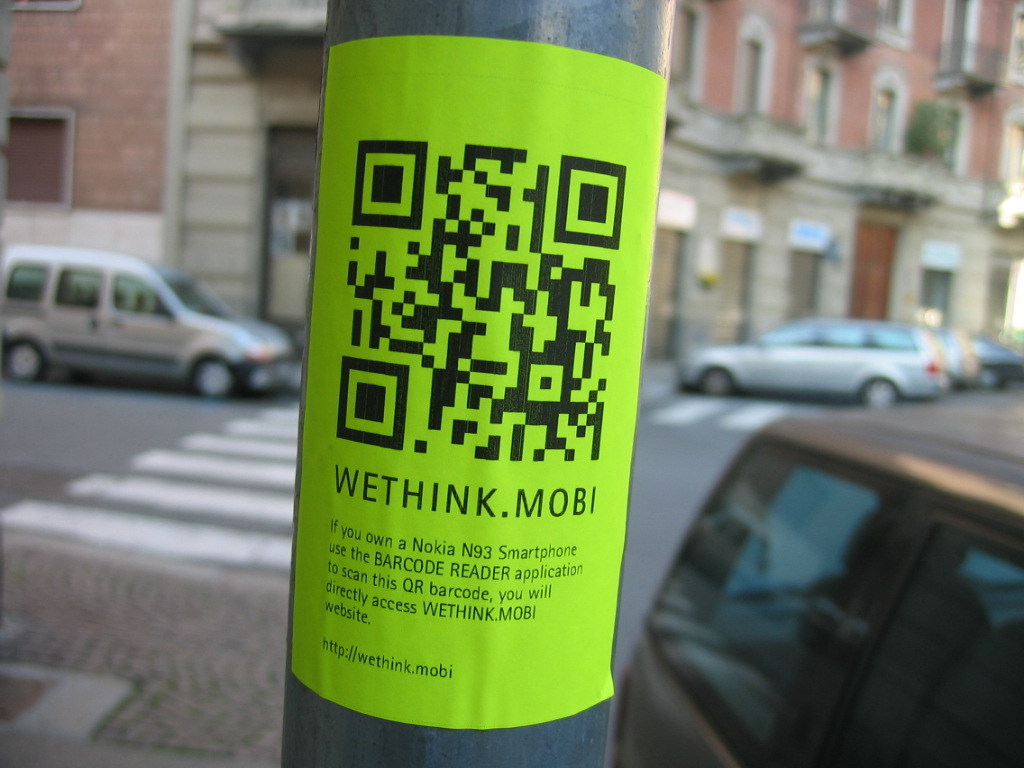QR-CODE: (336, 140, 626, 460)
